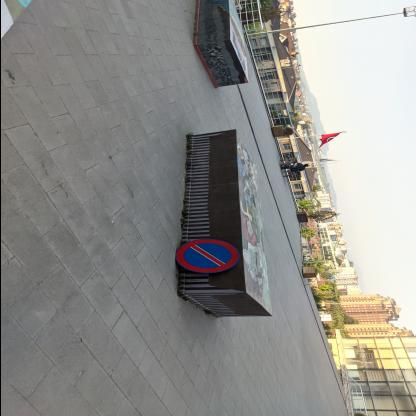No Waiting: (176, 240, 240, 274)
